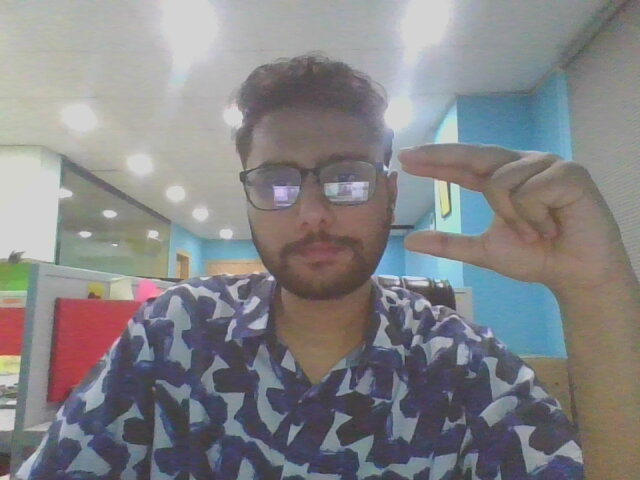no: (395, 128, 628, 308)
